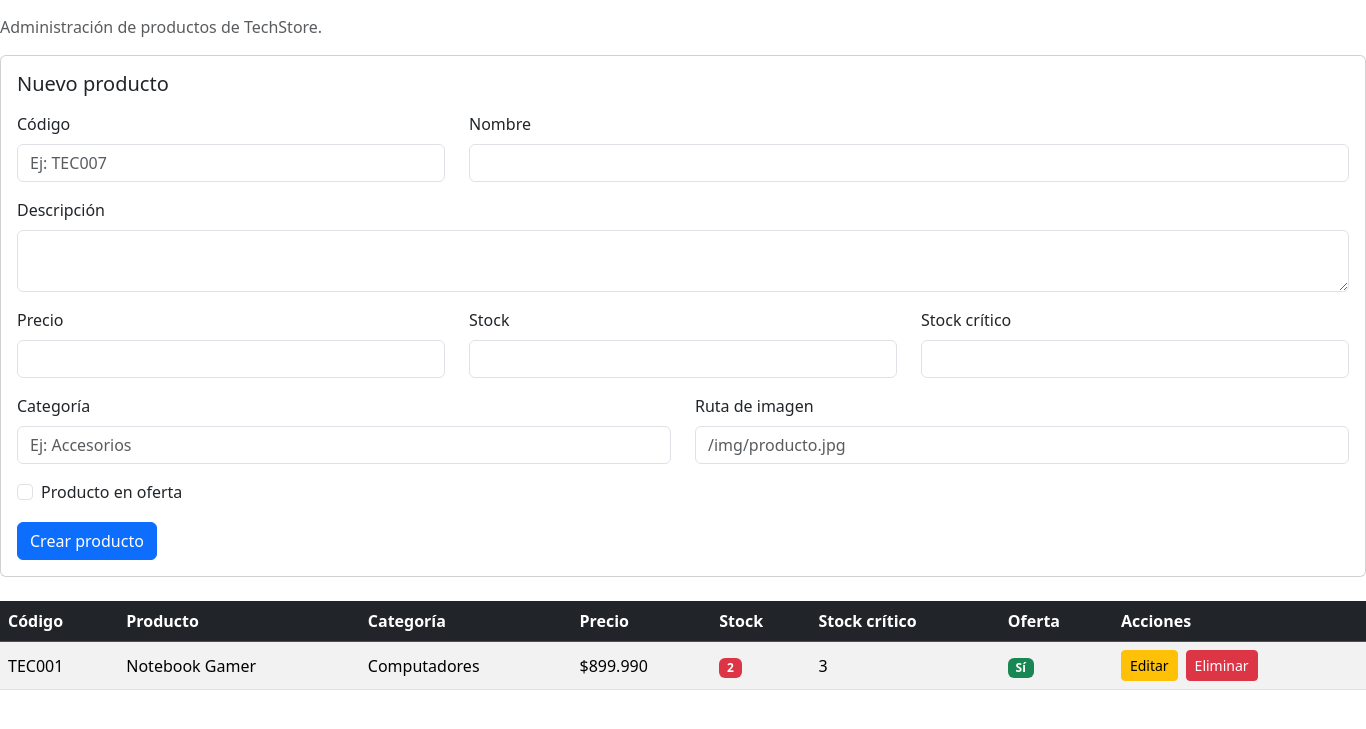
Test: AdminProductos › actualiza correctamente un producto
Click the button "Editar": [1149, 666] box x1=1121 y1=650 x2=1178 y2=681
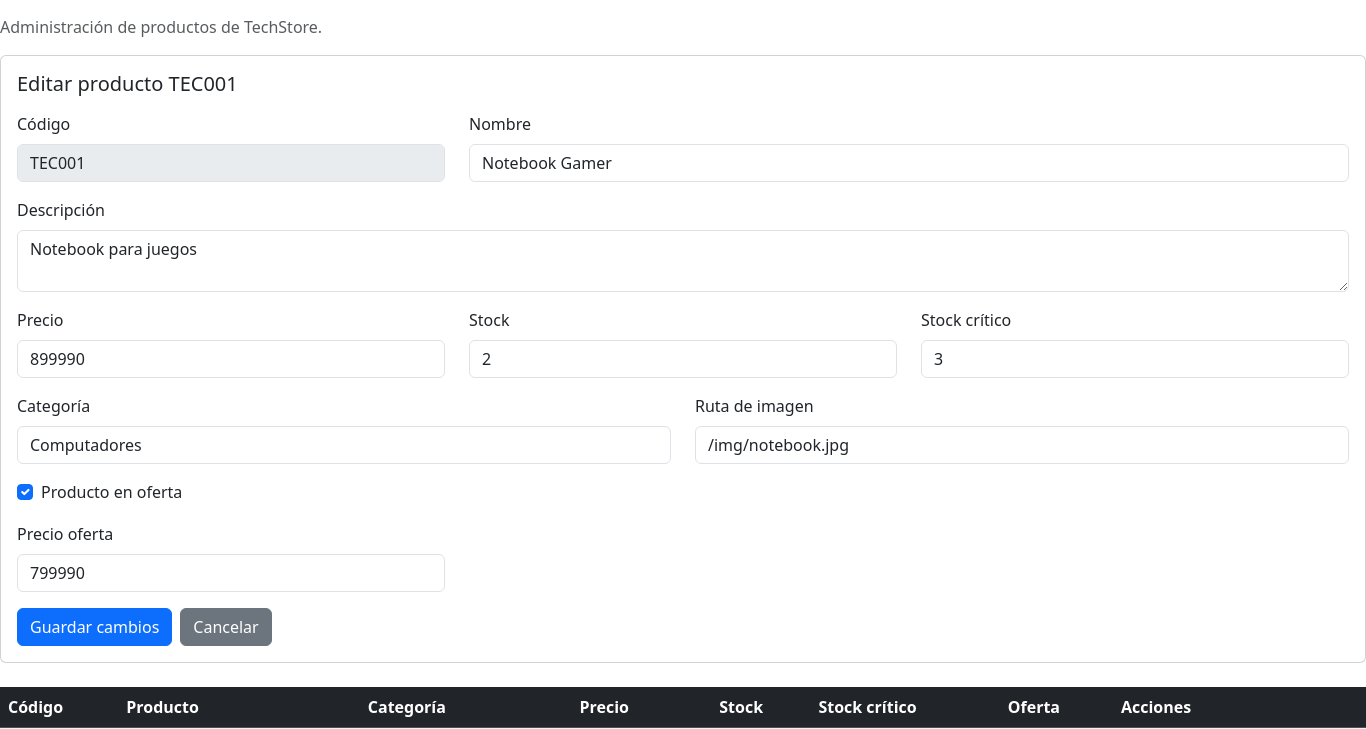
Replace the text in the field labelled "Nombre" with "Notebook Gamer Pro": [909, 163] box x1=469 y1=144 x2=1349 y2=182
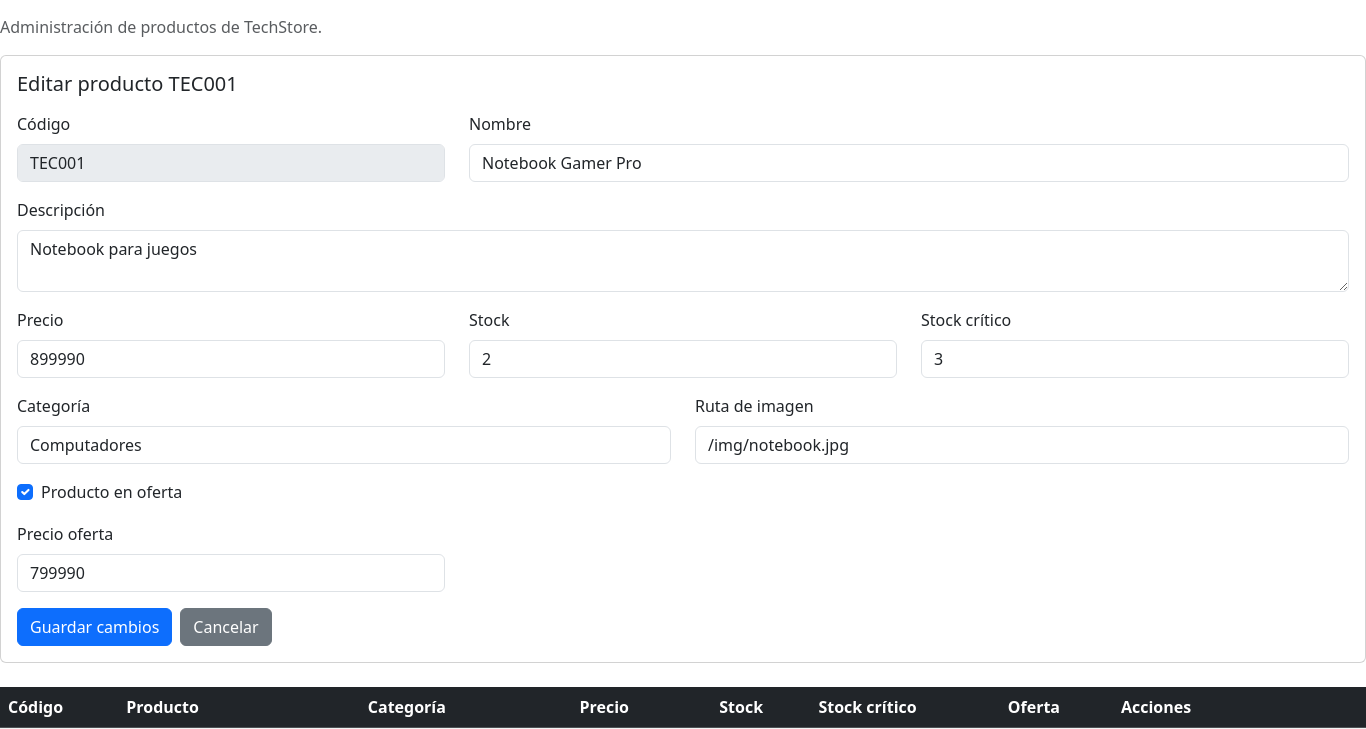
Click the button "Guardar cambios": [95, 627] box x1=17 y1=608 x2=172 y2=646
(page scrolled)
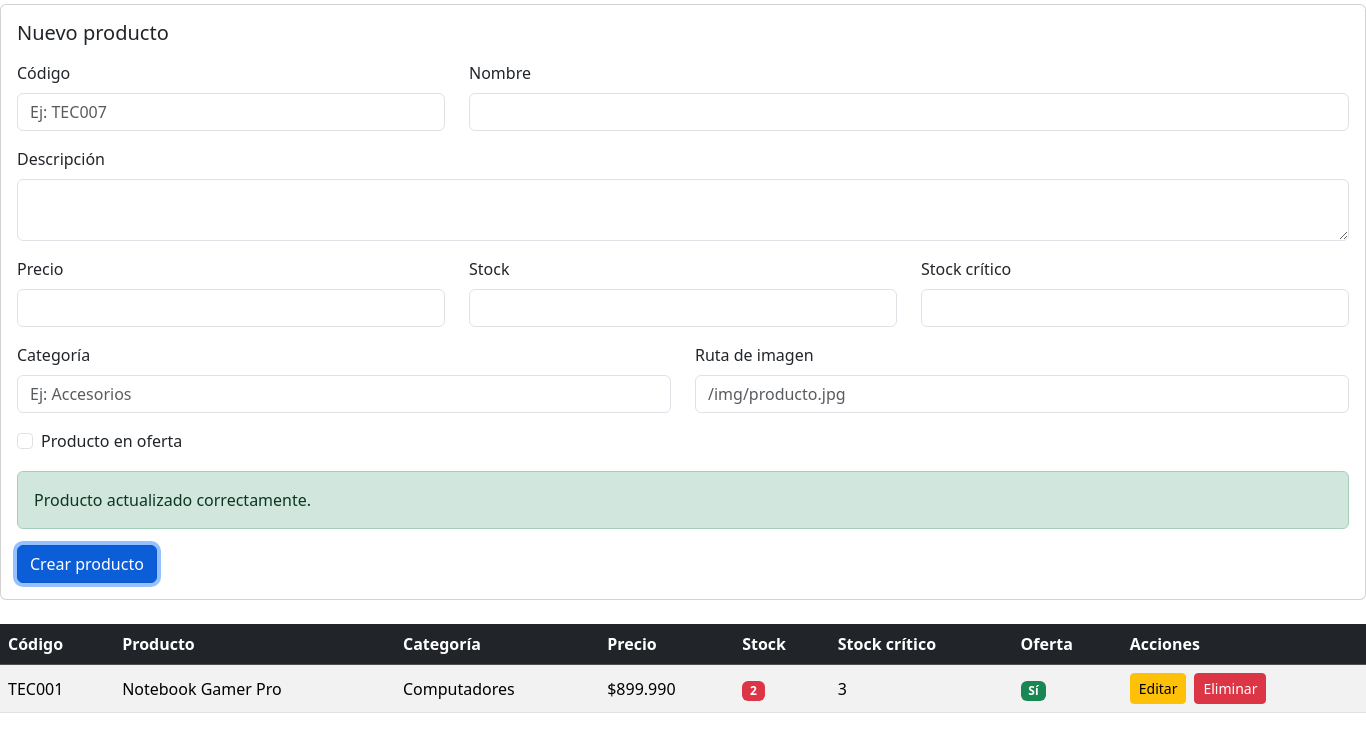
Expected: the text "Producto actualizado correctamente." is shown, x1=17 y1=471 x2=1349 y2=529
Expected: the text "Notebook Gamer Pro" is shown, x1=114 y1=665 x2=395 y2=713
